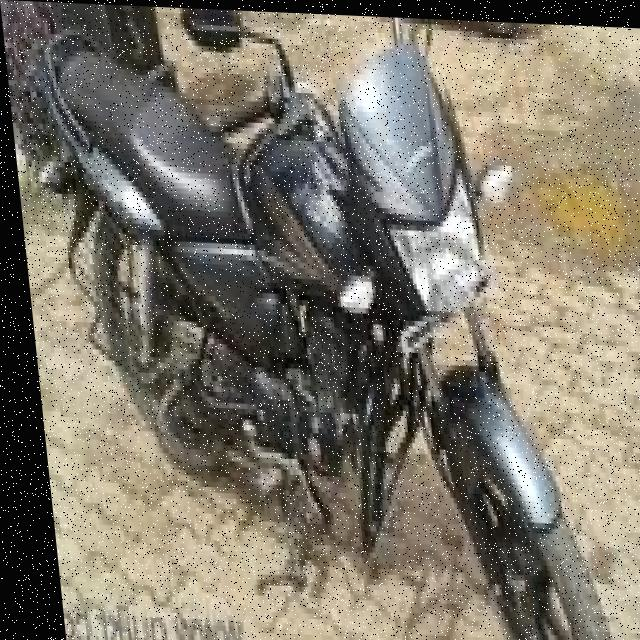bike: (15, 1, 640, 640)
